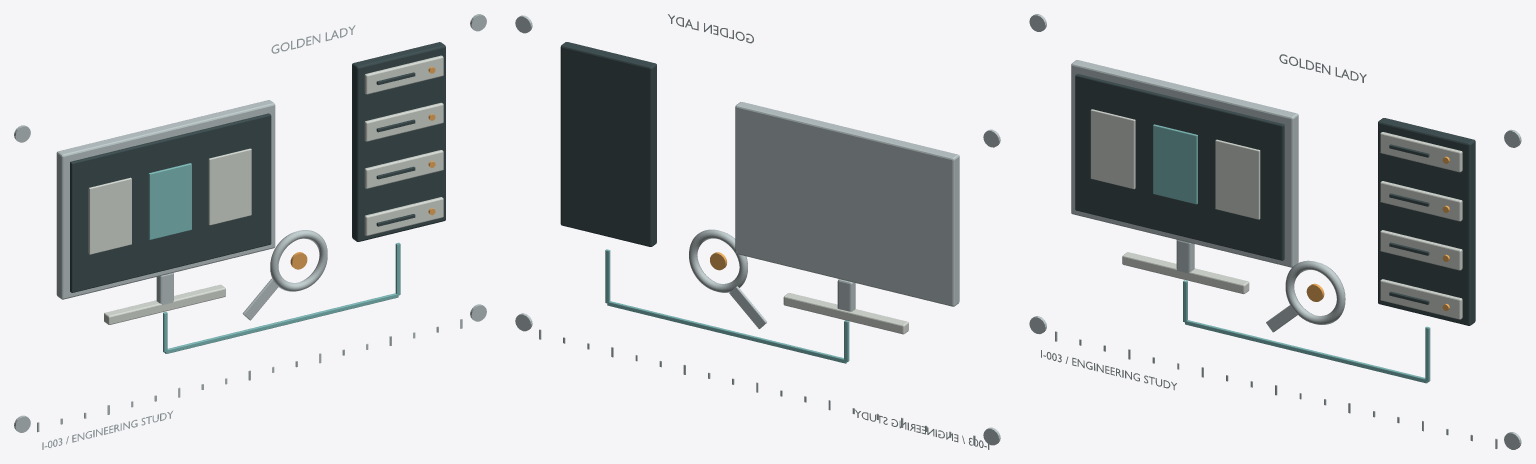
Rendered from golden-lady.glb.
The picture shows the model from 3 angles, left to right: view 1: azimuth 30°, elevation 25°; view 2: azimuth 150°, elevation 25°; view 3: azimuth 330°, elevation 25°; orthographic projection. The views are drawn at different scales.
Visible parts, largest first — view 1: optical-core__Project_Graphite.009, optical-core__Project_Ceramic.010, optical-core__Project_Silver.008, optical-lenses__Project_Silver.010, optical-core__Project_Trace.001, optical-lenses__Project_Trace.009; view 2: optical-core__Project_Silver.008, optical-core__Project_Graphite.009, optical-lenses__Project_Silver.010, optical-lenses__Project_Trace.009, optical-core__Project_Ceramic.010; view 3: optical-core__Project_Graphite.009, optical-core__Project_Ceramic.010, optical-core__Project_Silver.008, optical-lenses__Project_Silver.010, optical-core__Project_Trace.001, optical-lenses__Project_Trace.009.
Boxes of the visible parts, <box> form: optical-core__Project_Graphite.009: <box>70,42,445,292</box>; optical-core__Project_Ceramic.010: <box>88,55,443,324</box>; optical-core__Project_Silver.008: <box>56,100,275,304</box>; optical-lenses__Project_Silver.010: <box>14,14,486,449</box>; optical-core__Project_Trace.001: <box>148,163,191,239</box>; optical-lenses__Project_Trace.009: <box>163,242,400,353</box>; optical-core__Project_Silver.008: <box>735,102,959,311</box>; optical-core__Project_Graphite.009: <box>560,42,656,246</box>; optical-lenses__Project_Silver.010: <box>515,14,1000,449</box>; optical-lenses__Project_Trace.009: <box>605,249,849,363</box>; optical-core__Project_Ceramic.010: <box>783,293,908,334</box>; optical-core__Project_Graphite.009: <box>1075,74,1475,325</box>; optical-core__Project_Ceramic.010: <box>1090,109,1462,319</box>; optical-core__Project_Silver.008: <box>1071,60,1298,273</box>; optical-lenses__Project_Silver.010: <box>1029,14,1521,449</box>; optical-core__Project_Trace.001: <box>1153,124,1197,204</box>; optical-lenses__Project_Trace.009: <box>1183,280,1430,383</box>.
Bounding box in the file's own units: 4.01 × 2.83 × 0.173.
